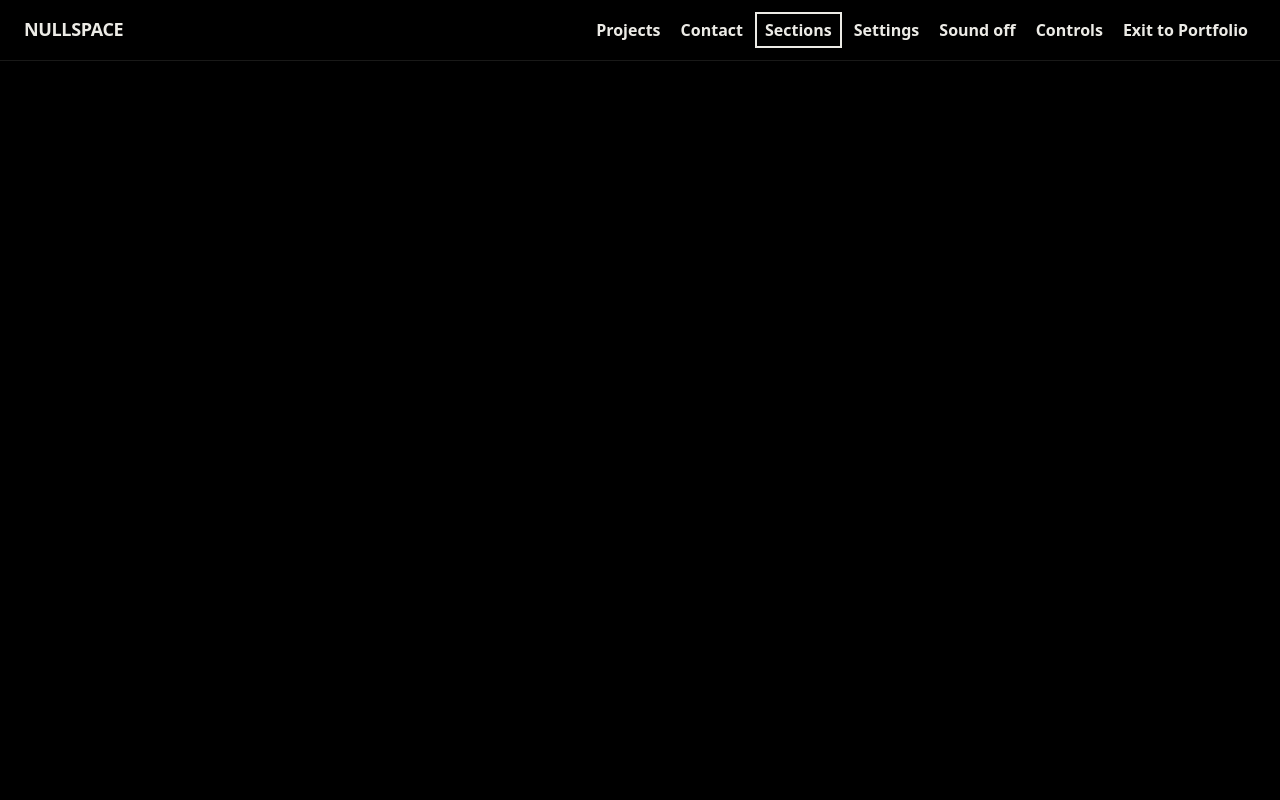
Scenario: Settings › reflects the current values when opened
Click the button "Settings".
click(886, 30)  # box x1=846 y1=14 x2=927 y2=46
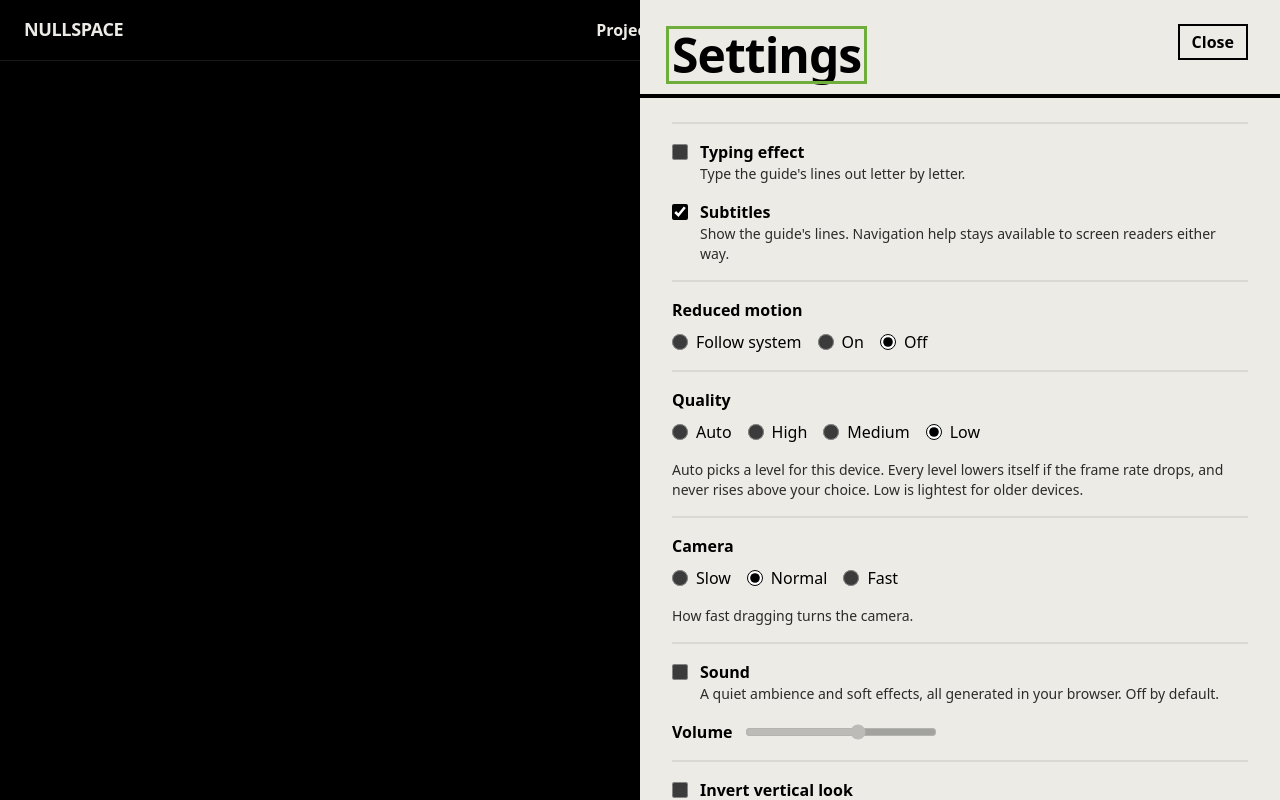
expect the checkbox labelled "Typing effect" is not checked: met, box x1=672 y1=144 x2=688 y2=160
expect the radio button labelled "Off" is checked: met, box x1=880 y1=334 x2=896 y2=350
expect the radio button labelled "Low" is checked: met, box x1=926 y1=424 x2=942 y2=440
